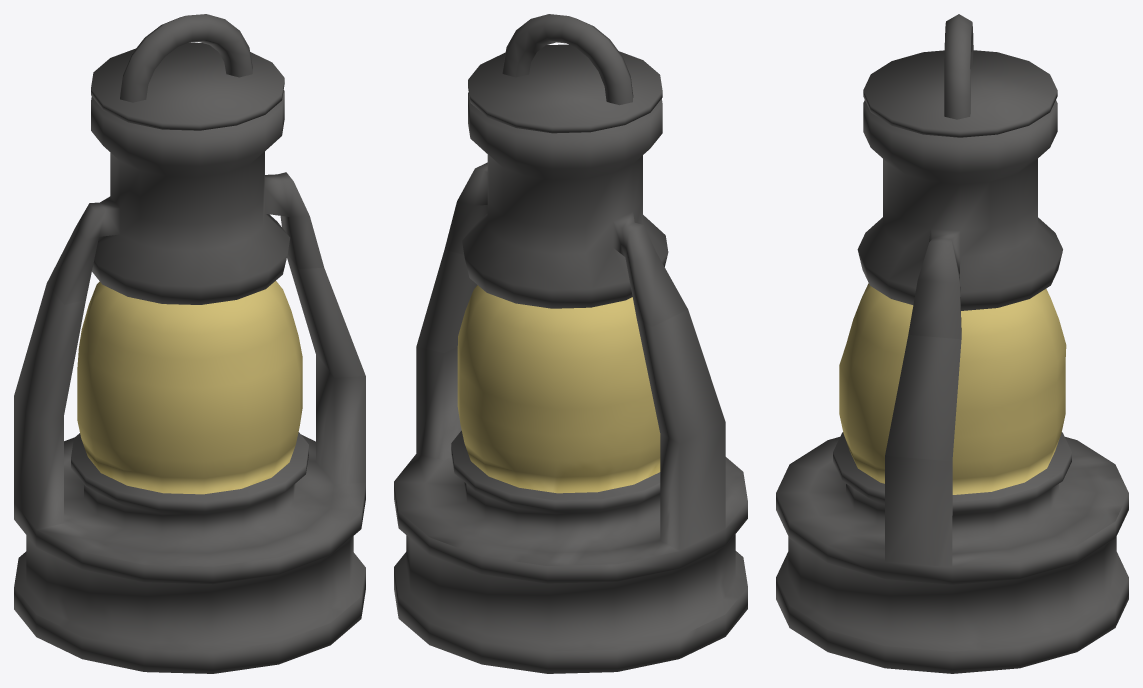
The model's file is Lanterna_Antiga.fbx.
3 renders of one model, left to right at view 1: azimuth 30°, elevation 25°; view 2: azimuth 150°, elevation 25°; view 3: azimuth 270°, elevation 25°, orthographic.
Parts seen in each view (by area): view 1: Old_Lantern; view 2: Old_Lantern; view 3: Old_Lantern.
Boxes of the visible parts, x1=… form: Old_Lantern: x1=14, y1=14, x2=365, y2=673; Old_Lantern: x1=394, y1=14, x2=747, y2=673; Old_Lantern: x1=776, y1=14, x2=1128, y2=673.
Bounding box in the file's own units: 68.12 × 123 × 68.12.
